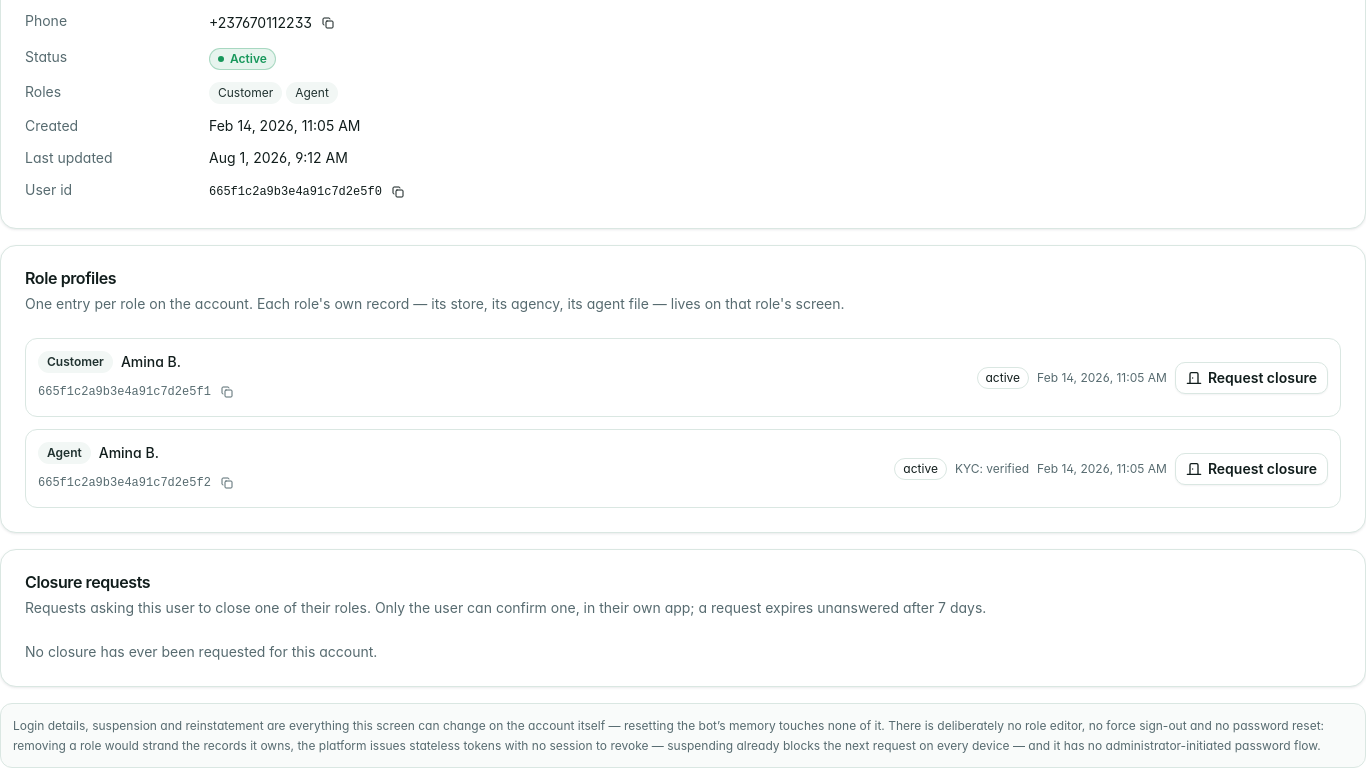
Test: requesting › requires a reason of at least three characters
(page scrolled)
Click the button "Request closure" in the row of "verified" at (1251, 468), box [1175,452,1328,484]
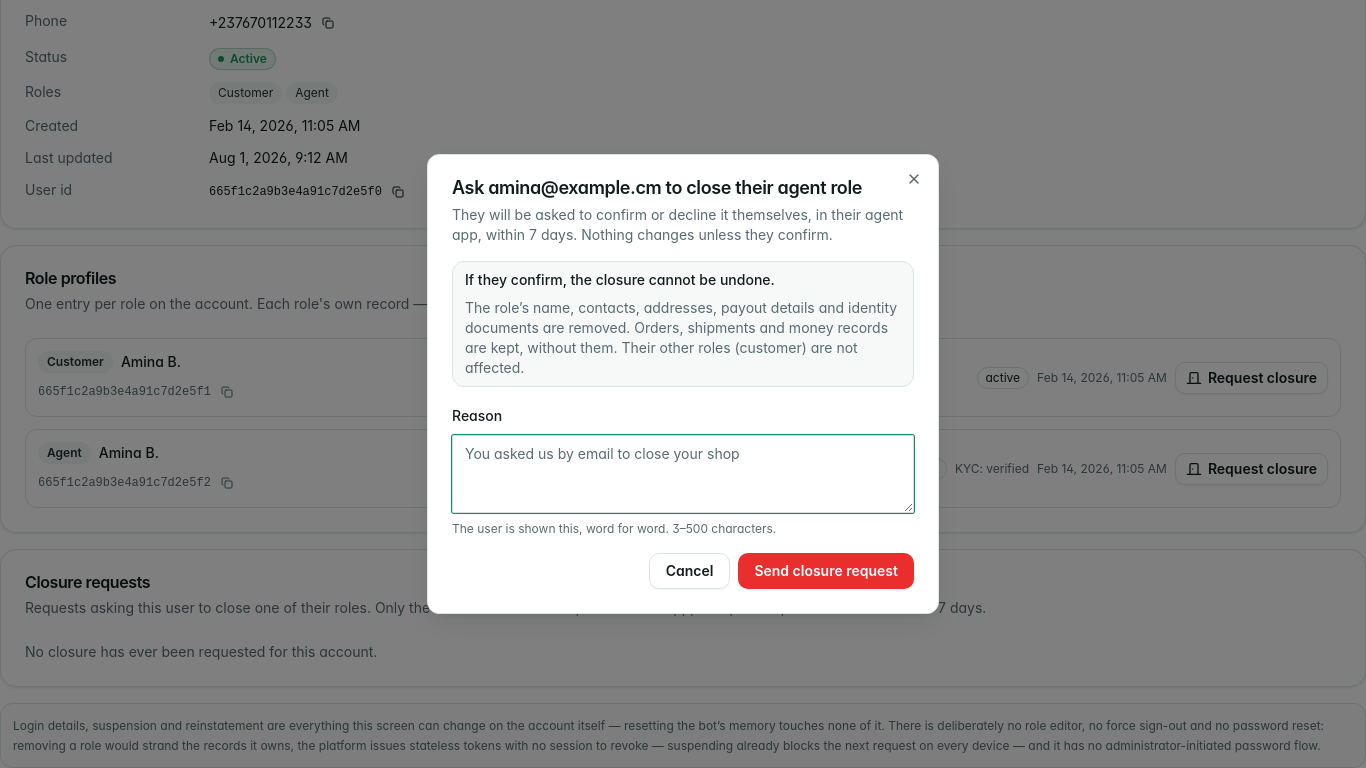
Type "no" into the text box labelled "Reason" at (683, 474), box [452,435,914,513]
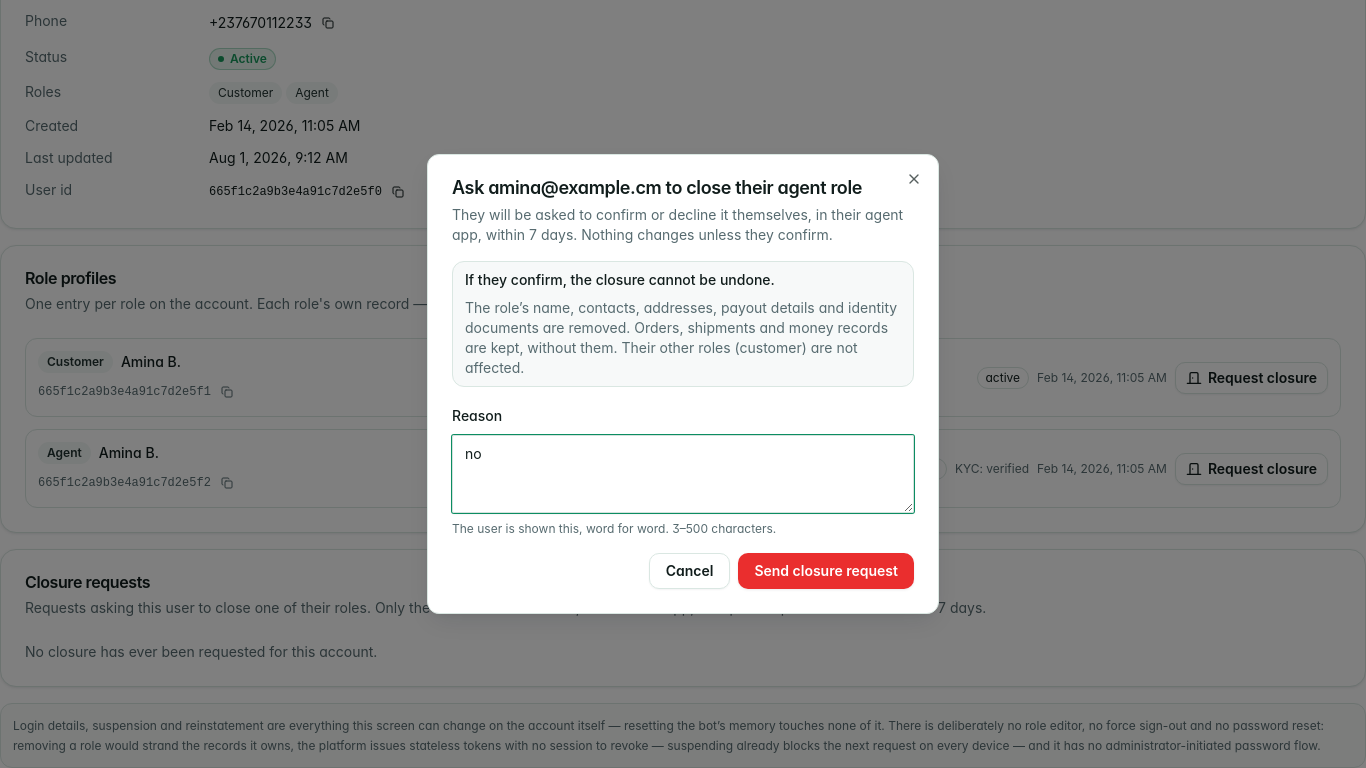
Click the button "Send closure request" at (826, 571), box [738,553,914,589]
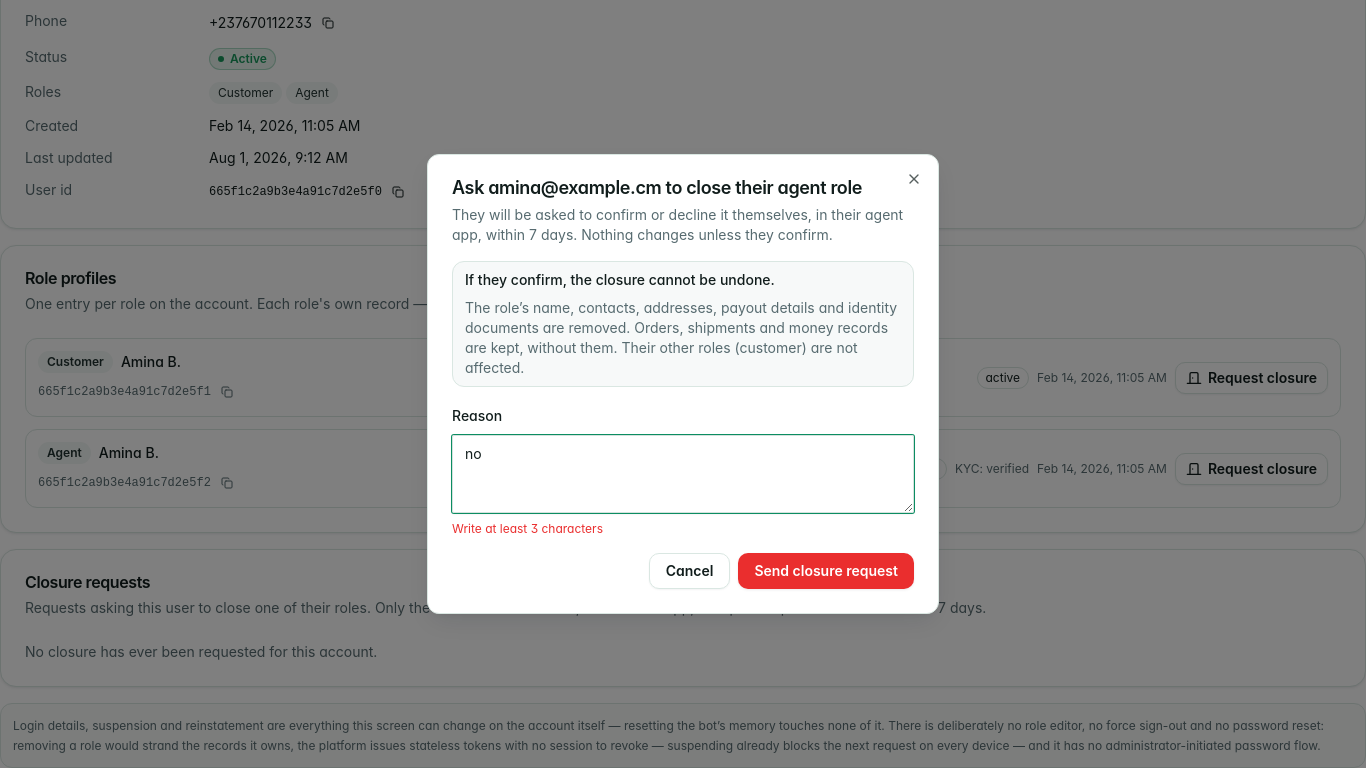
Now the text "Write at least 3 characters" is shown, box [452,521,603,536]
